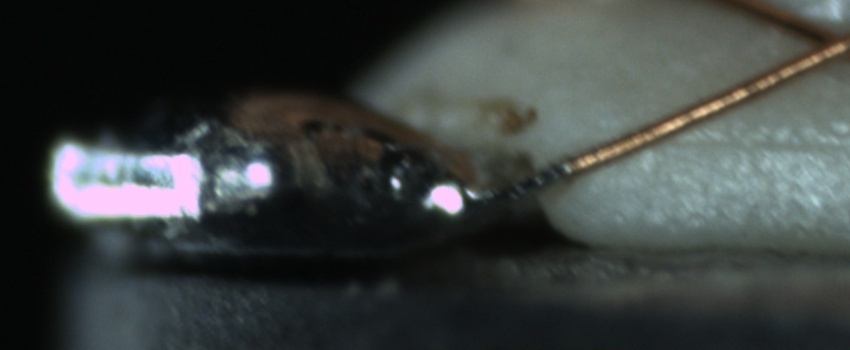CL: (776, 9, 848, 76)
DL: (667, 109, 848, 176)
TS: (461, 160, 571, 210)
